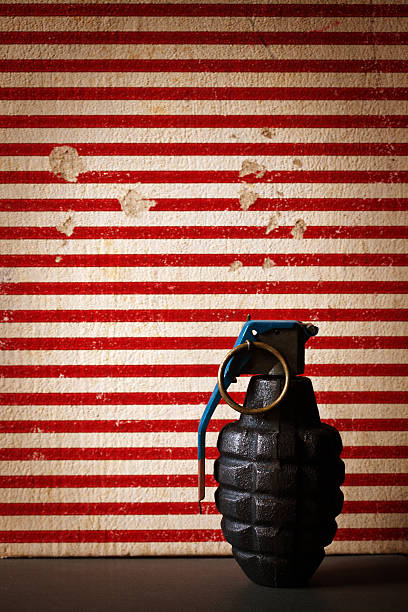e1: (194, 315, 349, 586)
